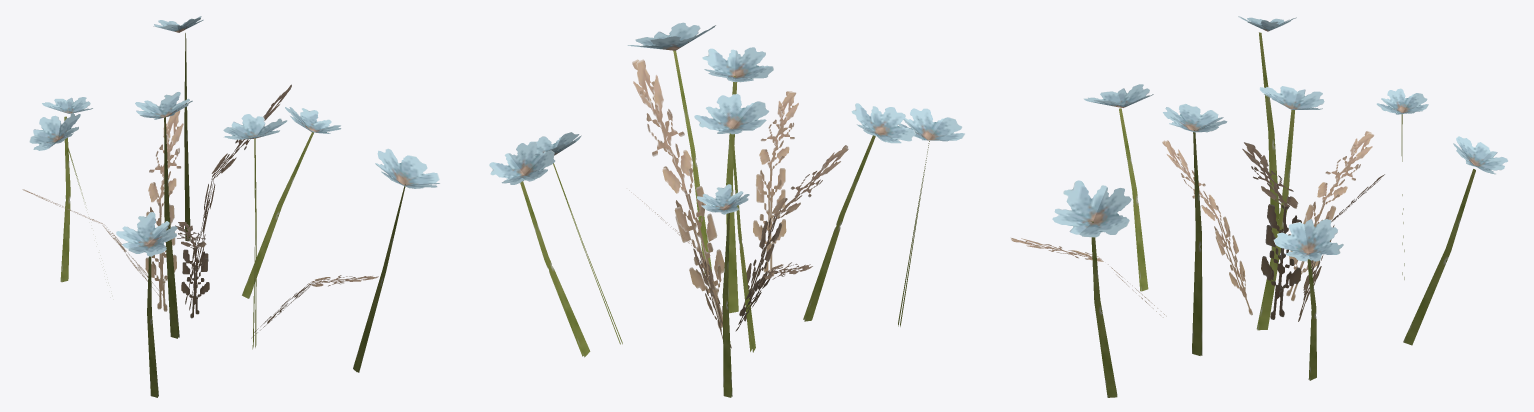
File: Flower_002.fbx
3 views of the same model, side by side, from view 1: azimuth 30°, elevation 25°; view 2: azimuth 150°, elevation 25°; view 3: azimuth 270°, elevation 25° (orthographic). The views are drawn at different scales.
Visible parts, largest first — view 1: FlowerPatch_002; view 2: FlowerPatch_002; view 3: FlowerPatch_002.
Part boxes in pixels (<box>): FlowerPatch_002: <box>22,16,439,397</box>; FlowerPatch_002: <box>489,22,964,397</box>; FlowerPatch_002: <box>1010,16,1507,397</box>.
Size of the model in its own units: 64.3 by 46.17 by 78.99.
